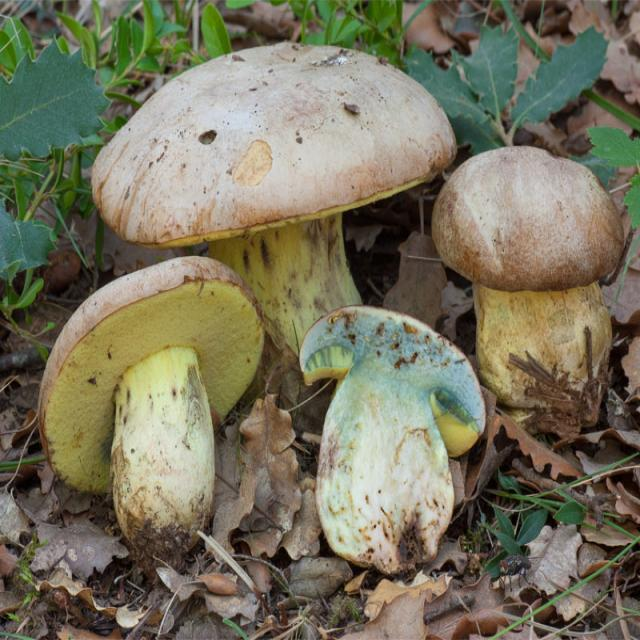Boletus: (95, 43, 455, 339), (41, 255, 265, 545), (435, 149, 625, 418), (298, 307, 483, 572)
